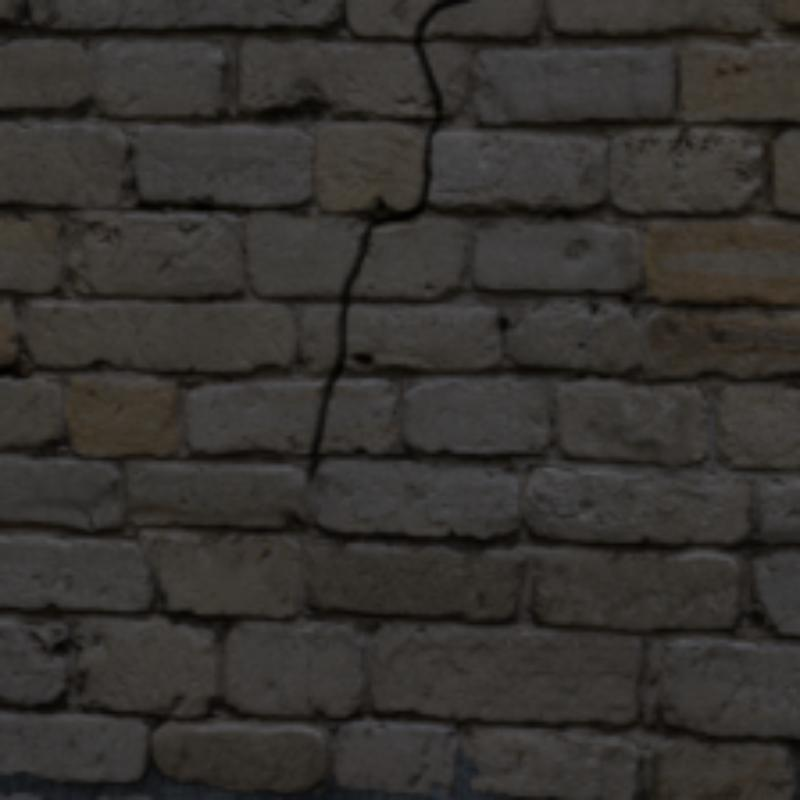crack: (339, 0, 464, 334), (307, 342, 342, 479)
